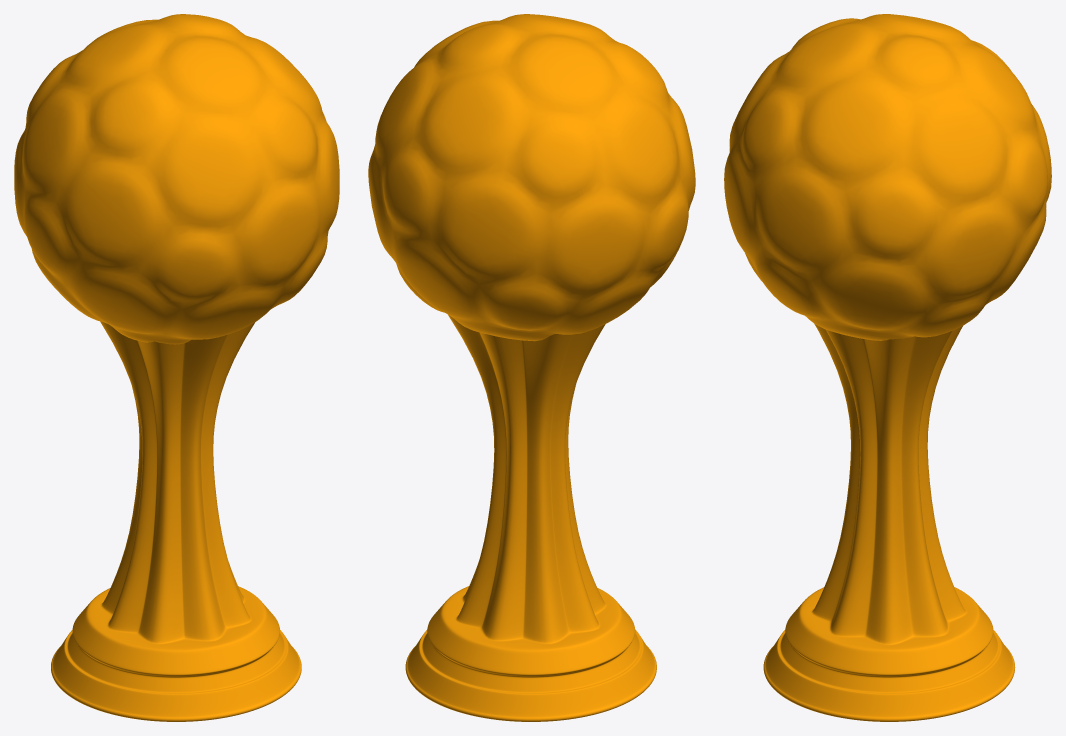
The model's file is Pivot Test Trophy.fbx.
The picture shows the model from 3 angles, left to right: view 1: azimuth 30°, elevation 25°; view 2: azimuth 150°, elevation 25°; view 3: azimuth 270°, elevation 25°; orthographic projection.
Parts seen in each view (by area): view 1: Trophy_P_5_Ball1, Trophy_P_6_Body; view 2: Trophy_P_5_Ball1, Trophy_P_6_Body; view 3: Trophy_P_5_Ball1, Trophy_P_6_Body.
Boxes of the visible parts, x1,y1,x2,y2 form: Trophy_P_5_Ball1: (14, 14, 339, 344); Trophy_P_6_Body: (51, 321, 301, 721); Trophy_P_5_Ball1: (368, 14, 695, 341); Trophy_P_6_Body: (405, 314, 656, 721); Trophy_P_5_Ball1: (724, 14, 1051, 340); Trophy_P_6_Body: (763, 323, 1015, 721).
Bounding box in the file's own units: 9.18 × 19.5 × 9.05.
1 material, 1 textured.
